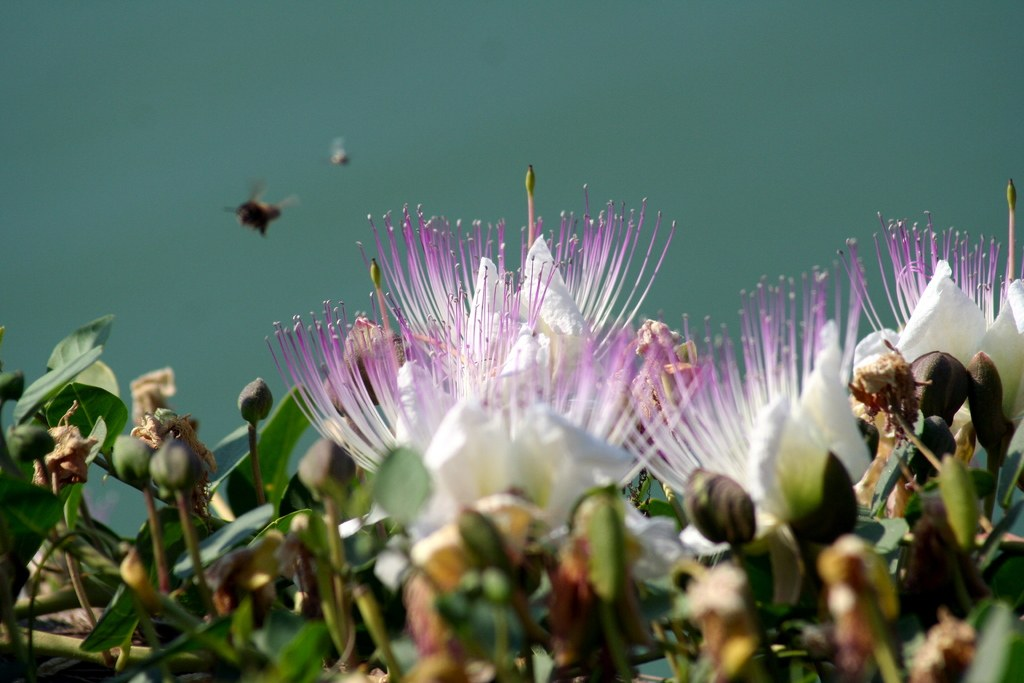bee: (221, 188, 289, 256)
insect: (26, 178, 1023, 682), (269, 169, 710, 531)
